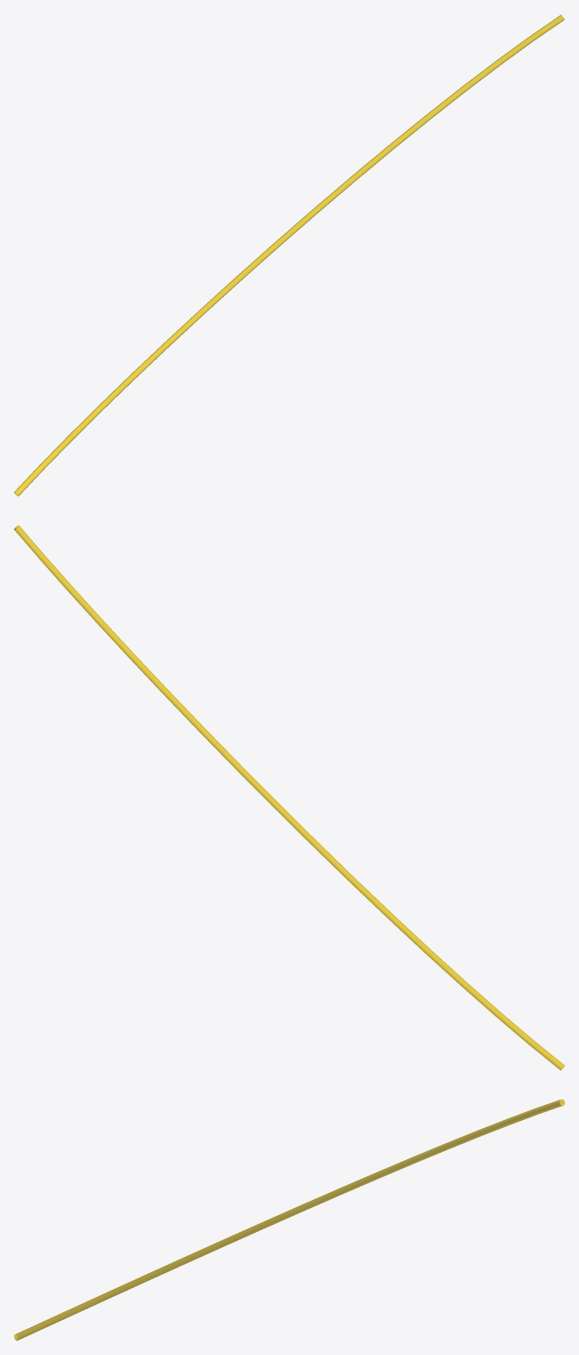
File: Event_75125125_track_39.fbx
The picture shows the model from 3 angles, top to bottom: view 1: azimuth 30°, elevation 25°; view 2: azimuth 150°, elevation 25°; view 3: azimuth 330°, elevation 25°; orthographic projection. The views are drawn at different scales.
Parts seen in each view (by area): view 1: Model; view 2: Model; view 3: Model.
Boxes of the visible parts, x1,y1,x2,y2 form: Model: (14, 14, 564, 496); Model: (14, 525, 564, 1070); Model: (14, 1099, 564, 1340).
Bounding box in the file's own units: 3.82 × 2.52 × 0.337.
